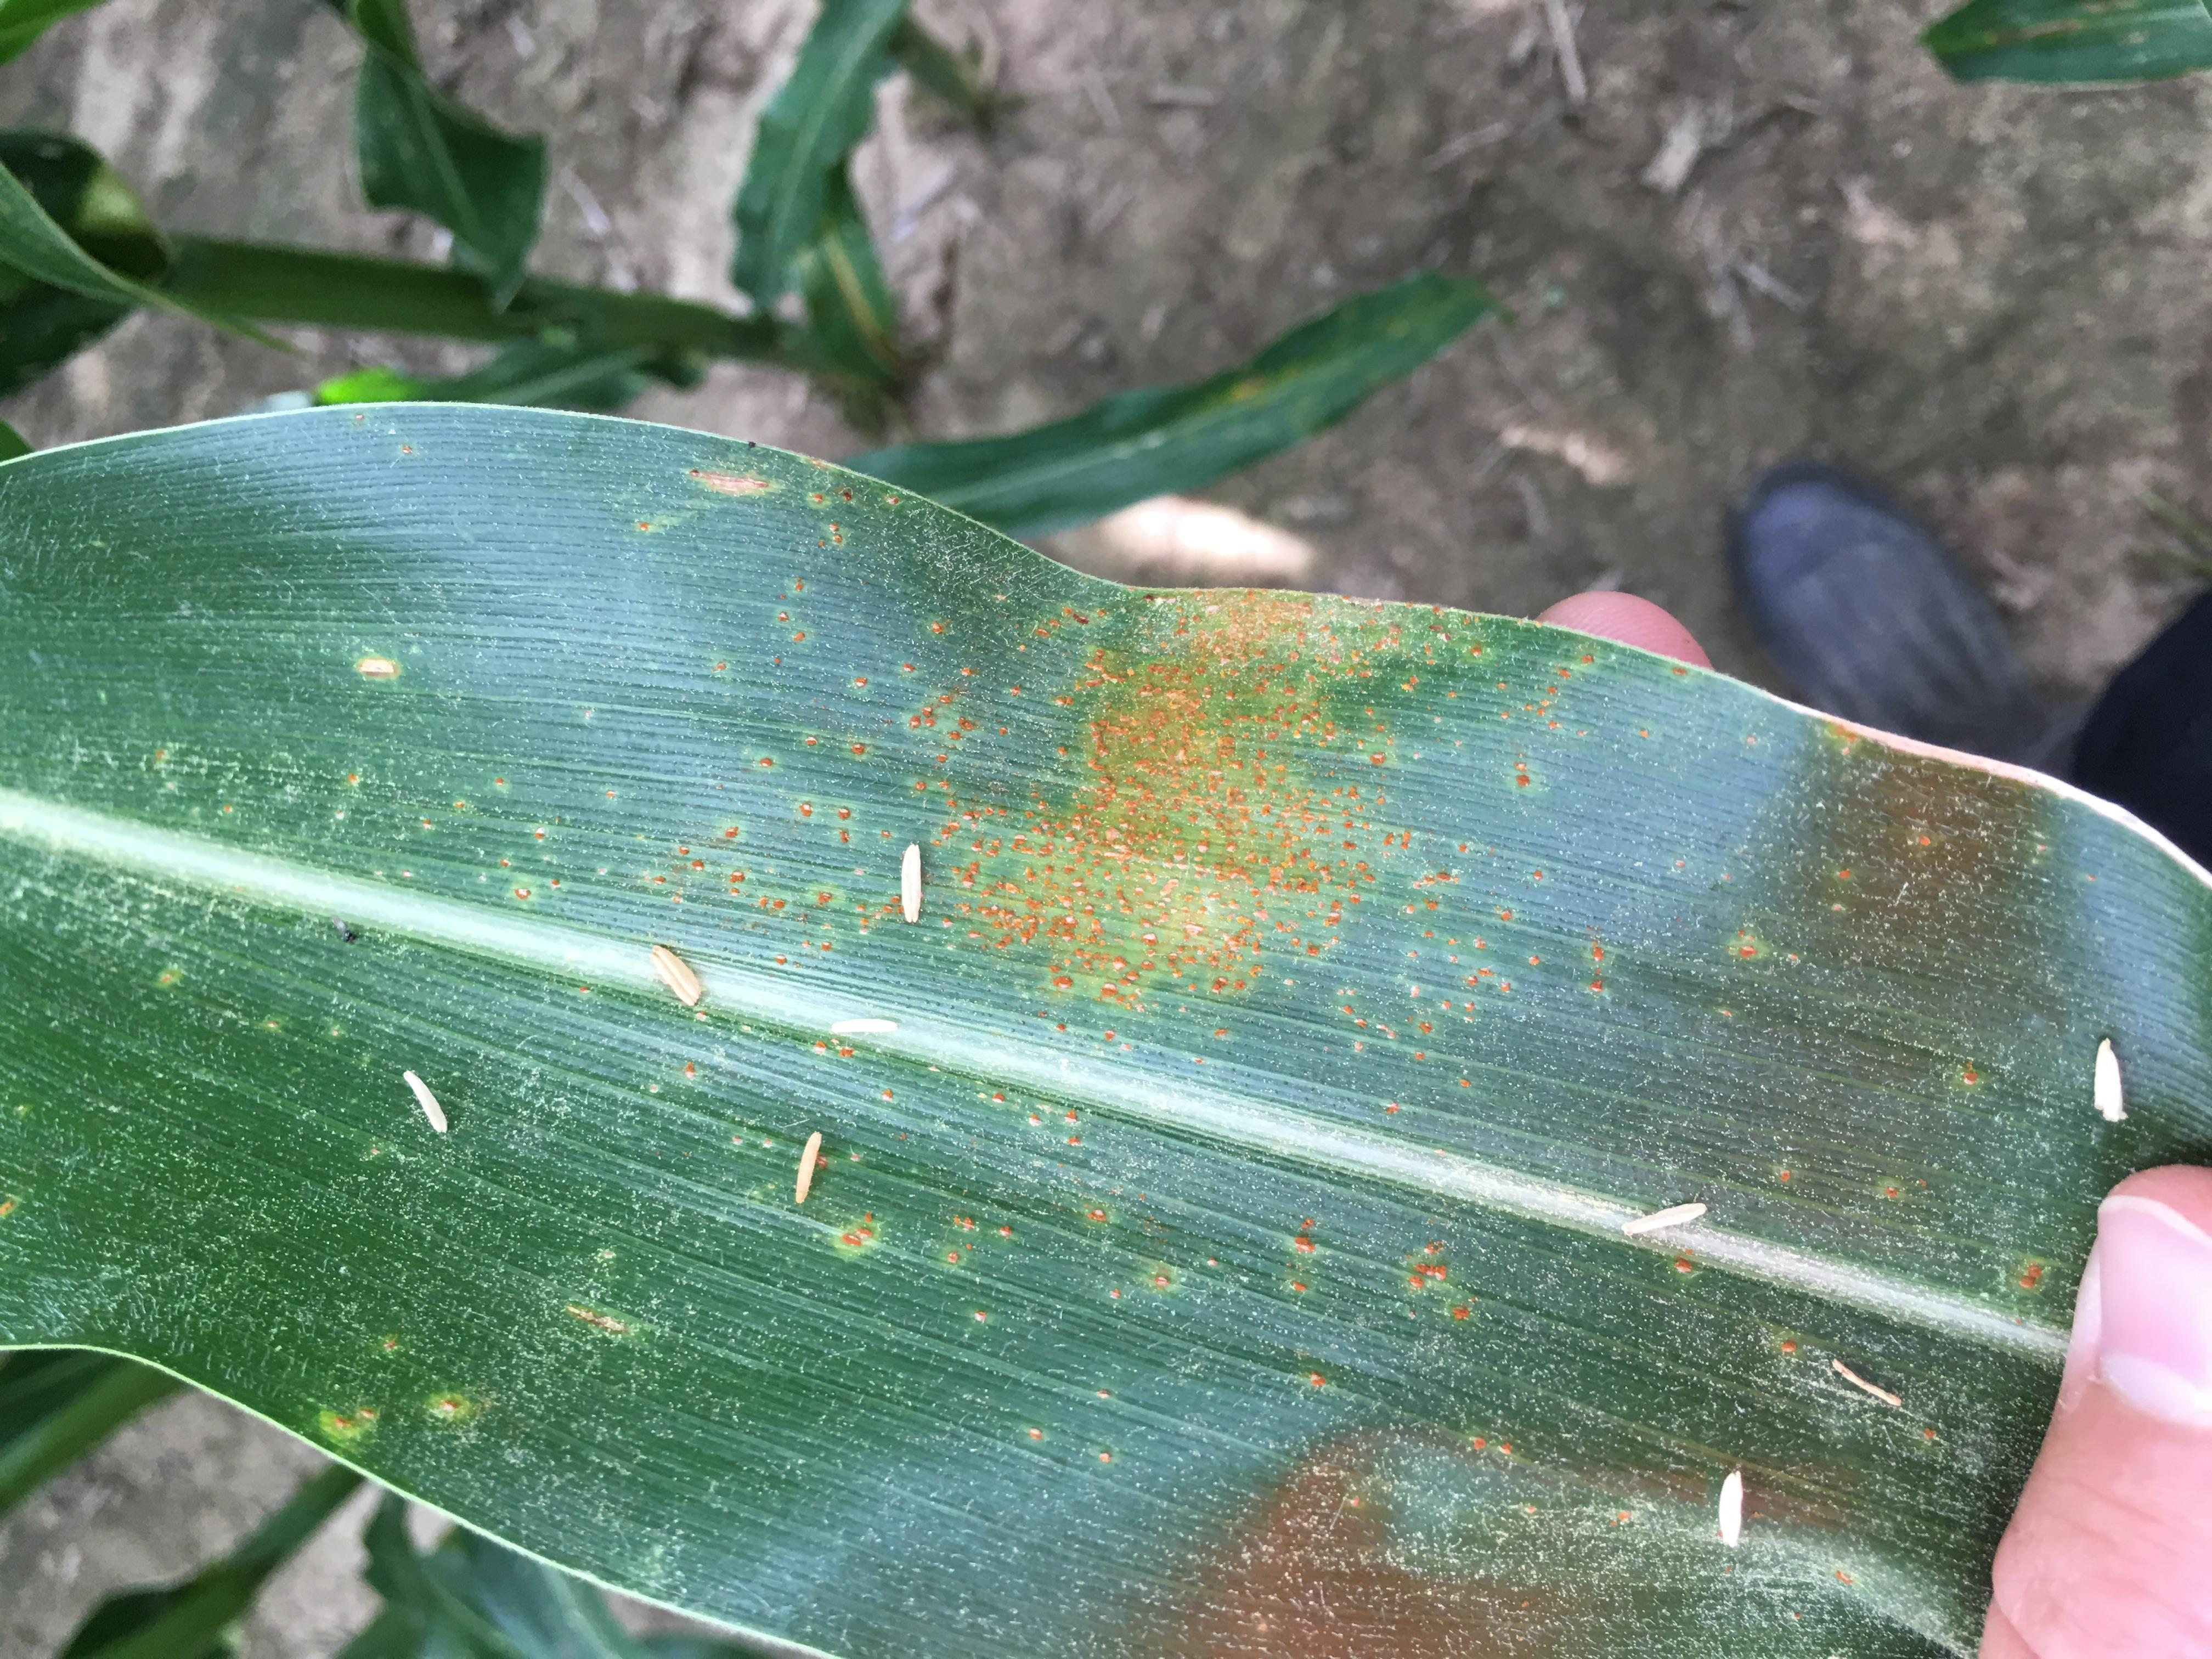Corn rust leaf: (16, 305, 2212, 1244)
